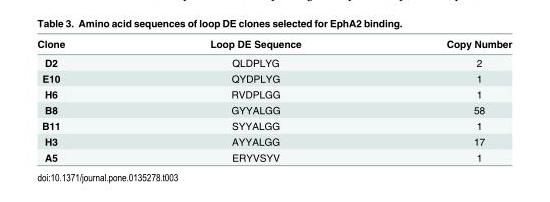table: (36, 37, 511, 162)
table column: (136, 37, 373, 162), (373, 37, 511, 162), (36, 37, 136, 162)
table column header: (36, 37, 511, 52)
table row: (36, 52, 511, 70), (36, 85, 511, 101), (36, 101, 511, 117), (36, 117, 511, 133), (36, 133, 511, 149), (36, 37, 511, 52), (36, 70, 511, 85), (36, 149, 511, 162)
